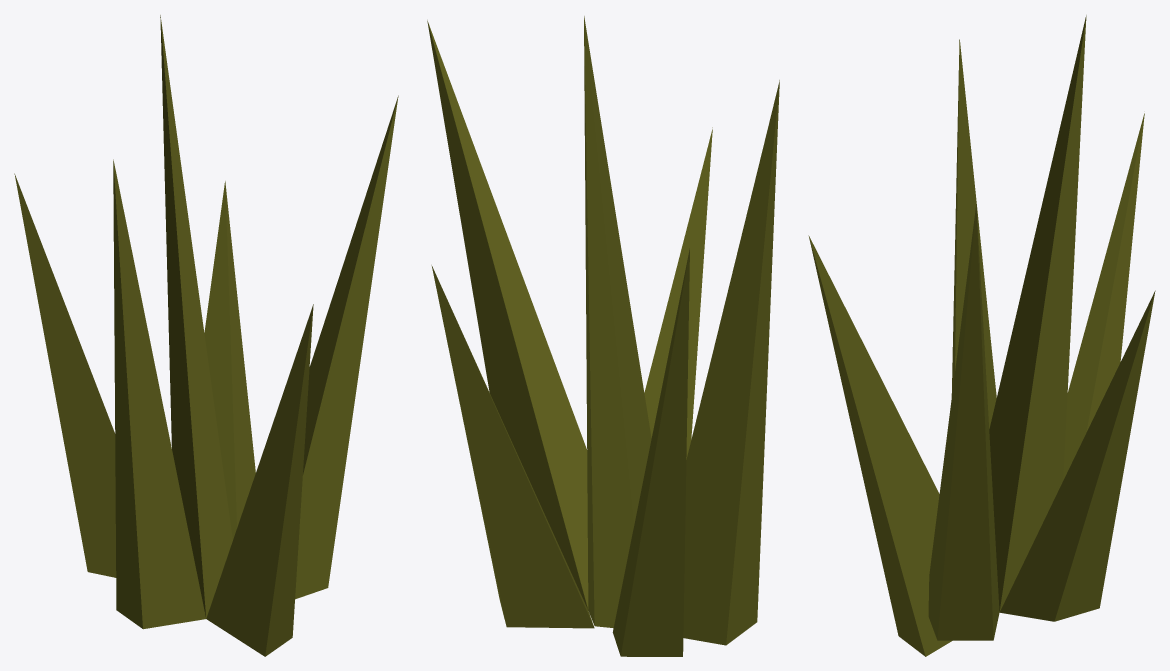
The model's file is Grass.fbx.
The picture shows the model from 3 angles, left to right: view 1: azimuth 30°, elevation 25°; view 2: azimuth 150°, elevation 25°; view 3: azimuth 270°, elevation 25°; orthographic projection. The views are drawn at different scales.
Visible parts, largest first — view 1: Grass var 1; view 2: Grass var 1; view 3: Grass var 1.
Part boxes in pixels (x1=…): Grass var 1: x1=14, y1=15, x2=398, y2=656; Grass var 1: x1=427, y1=16, x2=779, y2=656; Grass var 1: x1=808, y1=15, x2=1155, y2=656.
Size of the model in its own units: 23.34 by 42.62 by 21.83.
